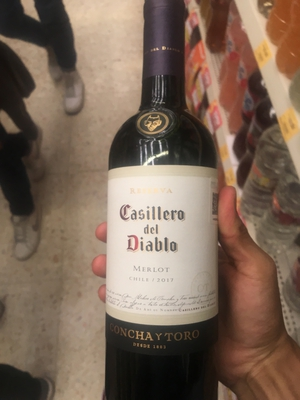casillero del diablo merlot: (106, 13, 222, 400)
